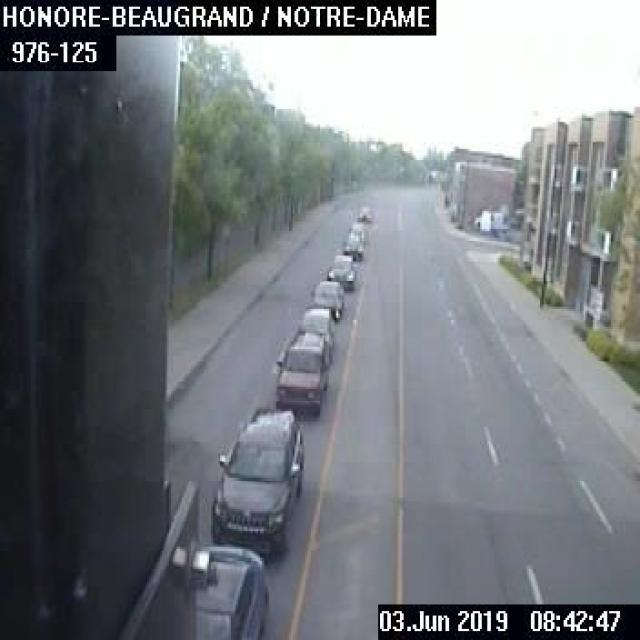vehicle: (208, 404, 302, 552), (196, 546, 267, 638), (274, 328, 328, 415), (296, 306, 334, 346), (309, 278, 343, 319), (326, 252, 356, 289), (342, 233, 362, 258), (348, 222, 366, 241), (356, 202, 370, 220)
